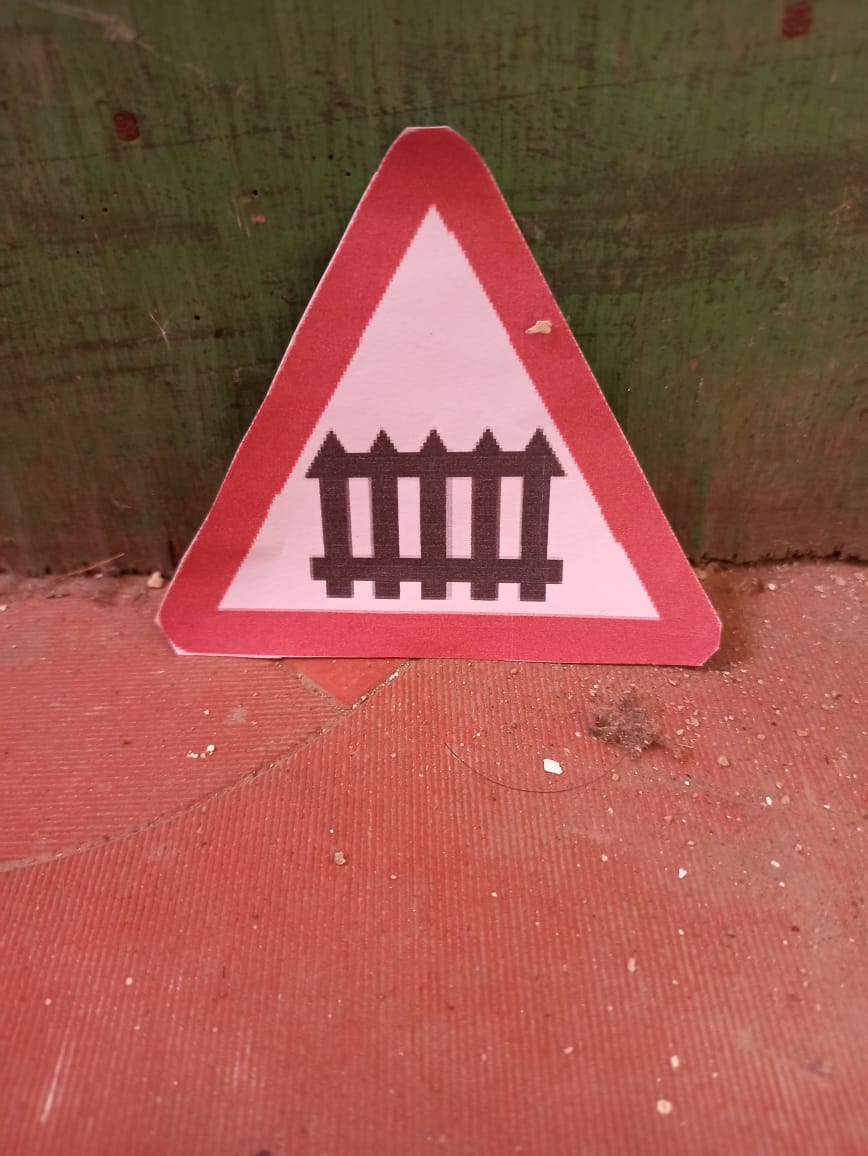GUARDED LEVEL CROSSING: (133, 126, 738, 667)
